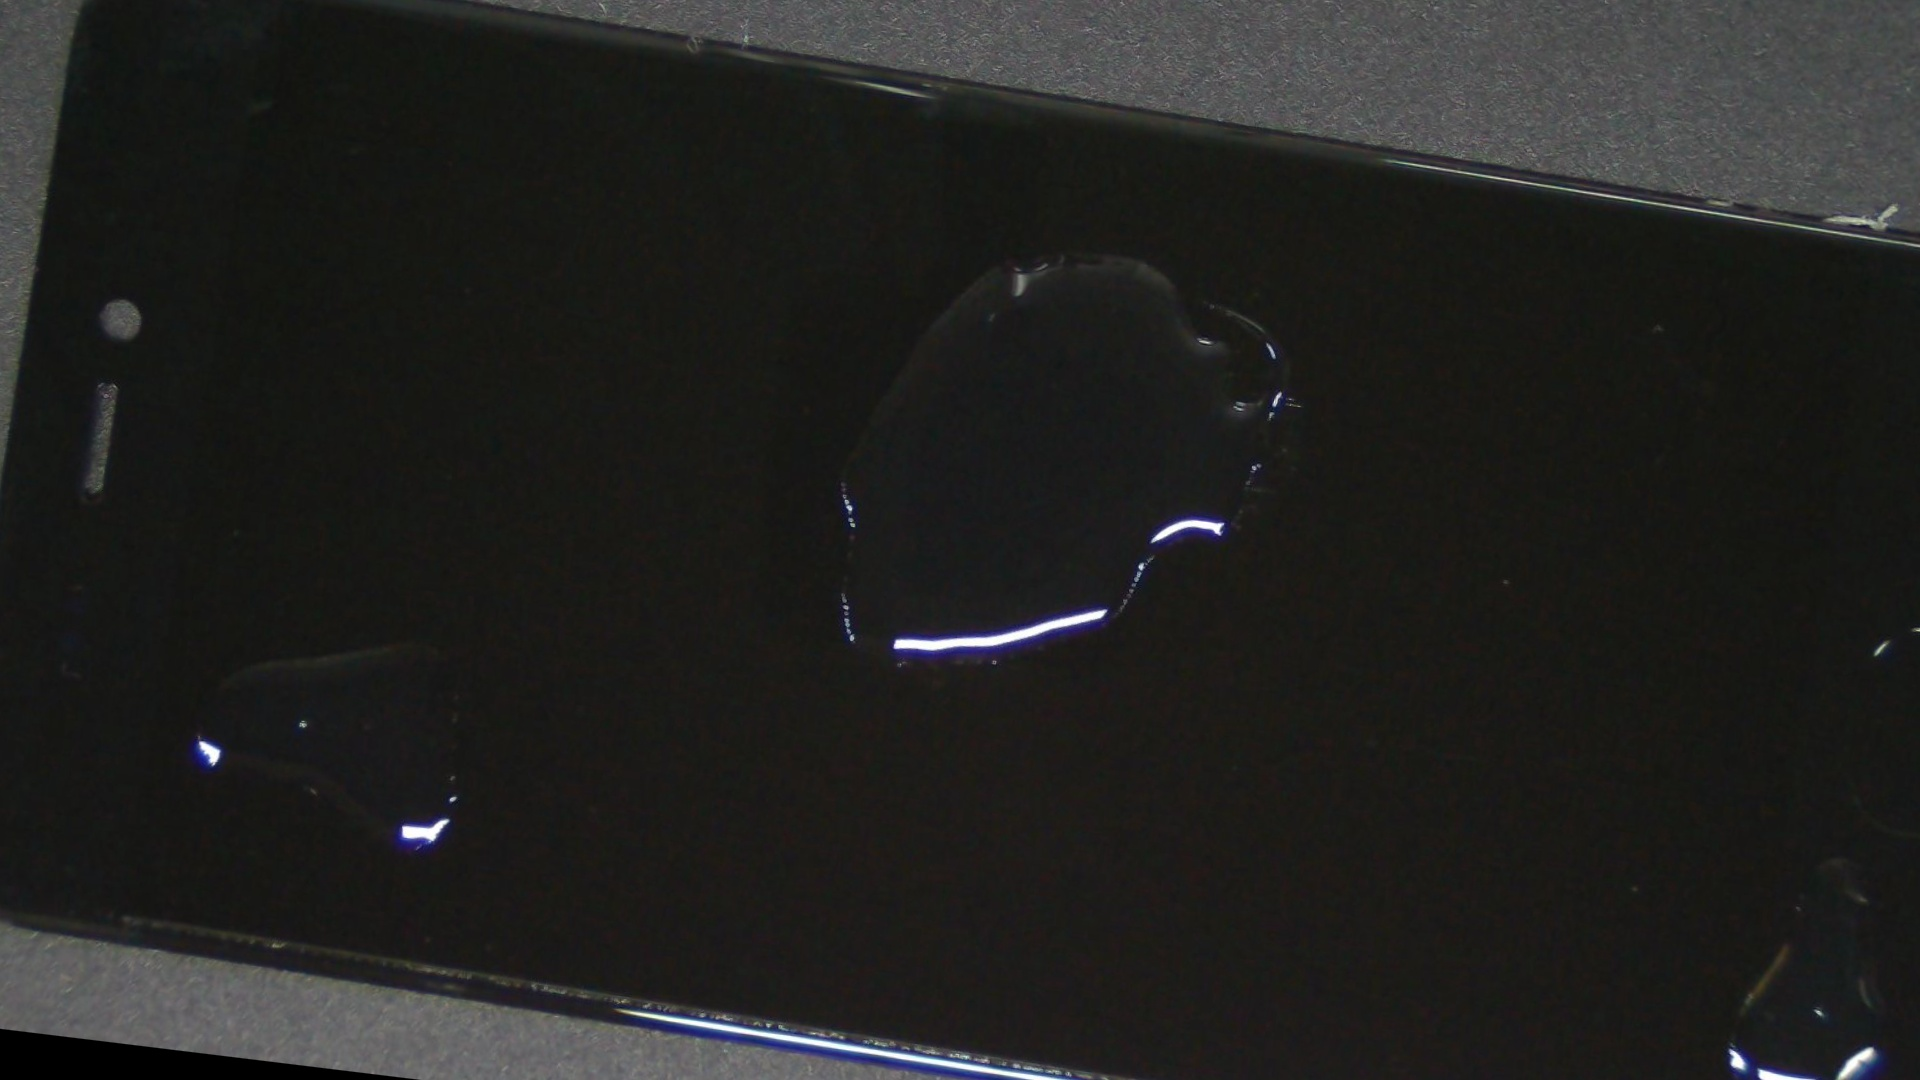oil: (769, 288, 1920, 1080), (442, 0, 1699, 517), (60, 181, 777, 1080)
